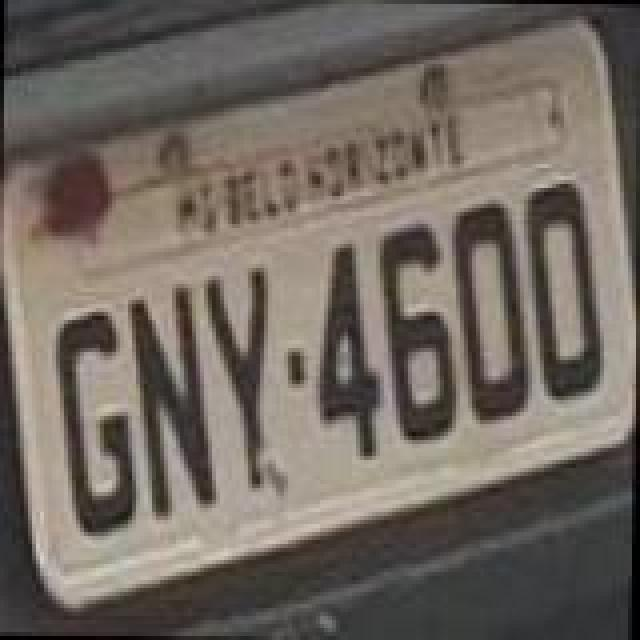4: (314, 244, 386, 460)
6: (378, 224, 466, 444)
G: (52, 308, 148, 540)
N: (122, 282, 222, 522)
O: (522, 176, 610, 400), (450, 202, 538, 422)
Y: (198, 262, 274, 494)
